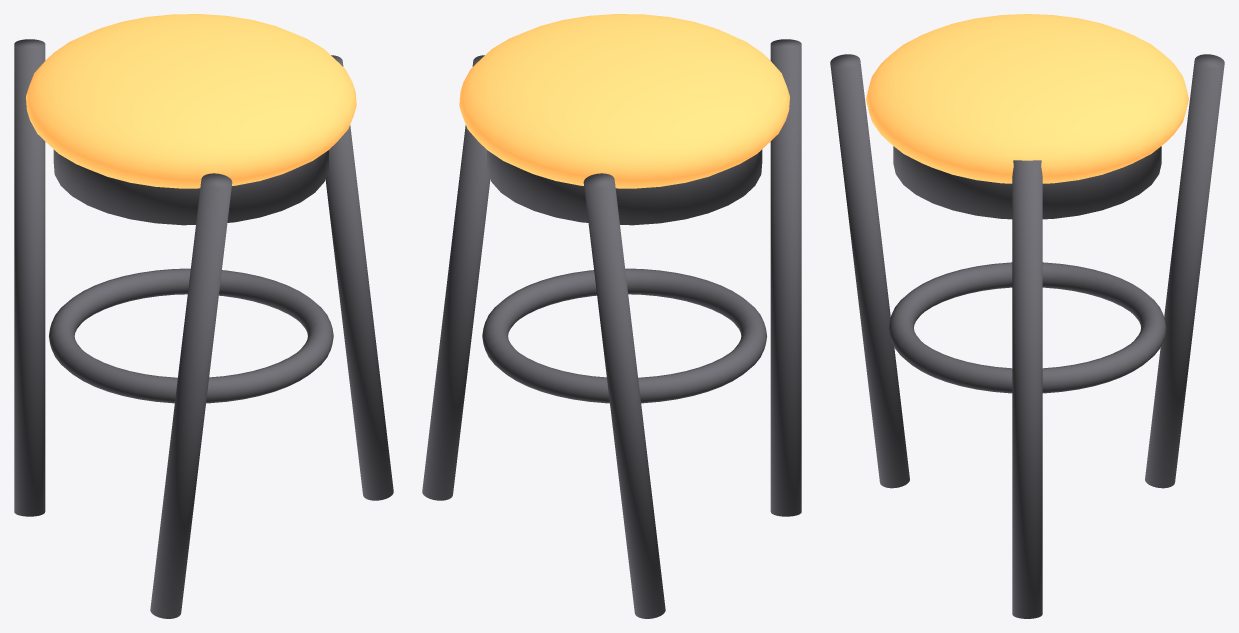
The model's file is Brazier.glb.
The picture shows the model from 3 angles, left to right: view 1: azimuth 30°, elevation 25°; view 2: azimuth 150°, elevation 25°; view 3: azimuth 270°, elevation 25°; orthographic projection. The views are drawn at different scales.
Parts seen in each view (by area): view 1: Brazier; view 2: Brazier; view 3: Brazier.
Boxes of the visible parts, left/top/right/bottom form: Brazier: left=14, top=14, right=393, bottom=618; Brazier: left=422, top=14, right=801, bottom=618; Brazier: left=830, top=14, right=1224, bottom=618.
Size of the model in its own units: 0.7666 by 1.05 by 0.7814.
